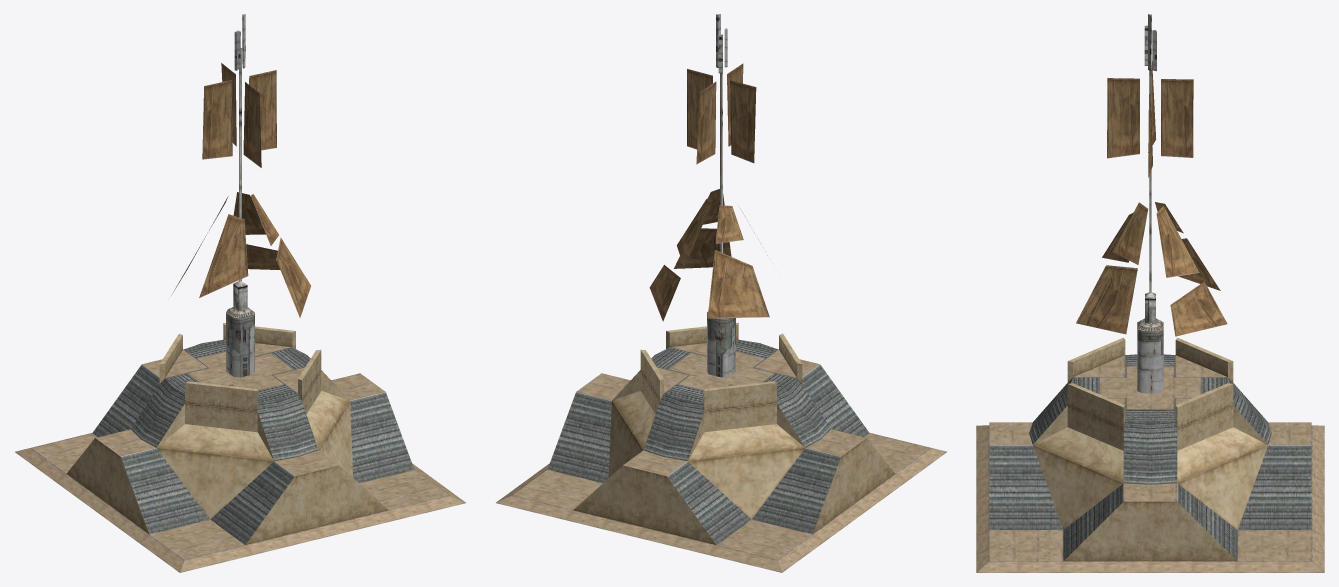
Rendered from ply_tato_bank_s01_l4.fbx.
3 renders of one model, left to right at view 1: azimuth 30°, elevation 25°; view 2: azimuth 150°, elevation 25°; view 3: azimuth 270°, elevation 25°, orthographic. The views are drawn at different scales.
Visible parts, largest first — view 1: mesh_node; view 2: mesh_node; view 3: mesh_node.
Part boxes in pixels (left/top/right/bottom): mesh_node: left=15, top=14, right=465, bottom=572; mesh_node: left=496, top=14, right=947, bottom=572; mesh_node: left=976, top=14, right=1324, bottom=572.
Size of the model in its own units: 16 by 24.64 by 16.
1 material, 1 textured.
